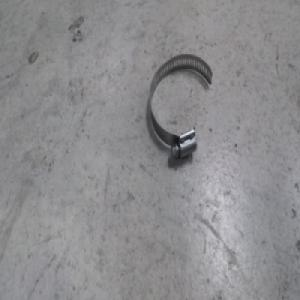AdjustableClamp: (144, 47, 214, 155)
